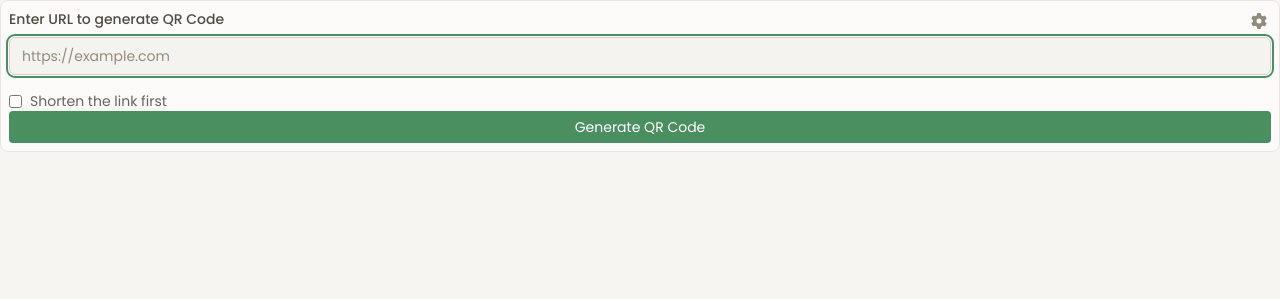
Test: QRCodeWidget › with "Shorten the link first" ticked, a successful shorten stores shortUrl and displays it
Type "https://example.com/lesson" into the field with placeholder "https://example.com" at (640, 56), box x1=9 y1=37 x2=1271 y2=75
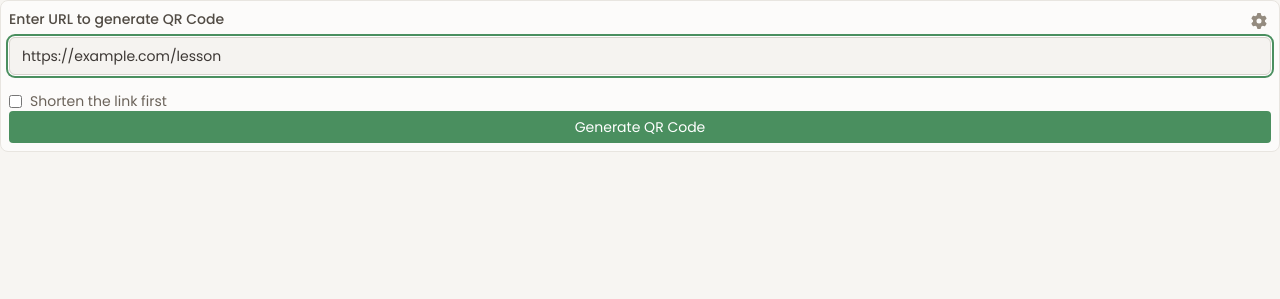
Click the checkbox labelled "Shorten the link first" at (16, 101), box x1=9 y1=94 x2=22 y2=108
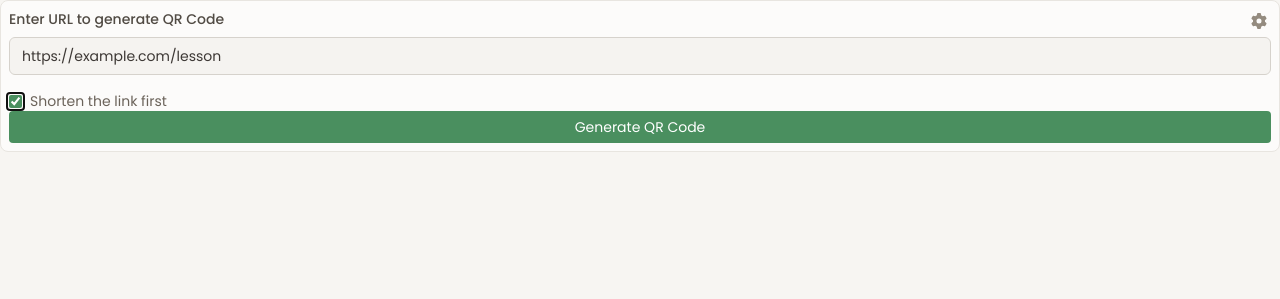
Click the button "Generate QR Code" at (640, 127), box x1=9 y1=111 x2=1271 y2=143
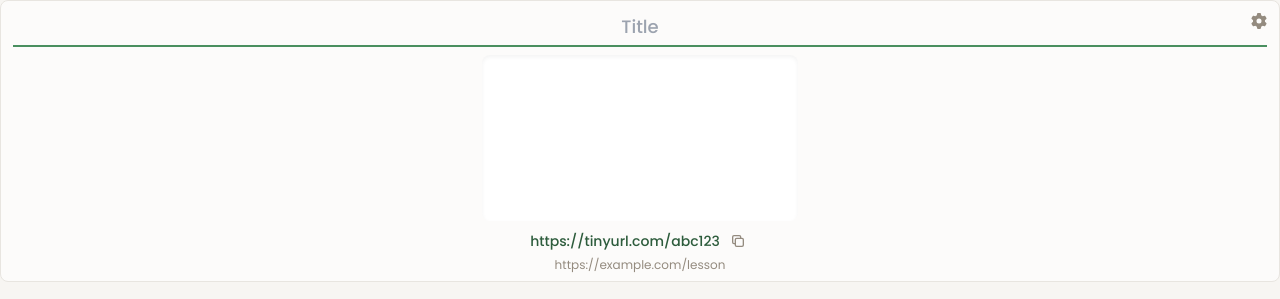
Now the text "https://tinyurl.com/abc123" is shown, box x1=530 y1=231 x2=720 y2=251
Now the text "https://example.com/lesson" is shown, box x1=555 y1=256 x2=725 y2=273
